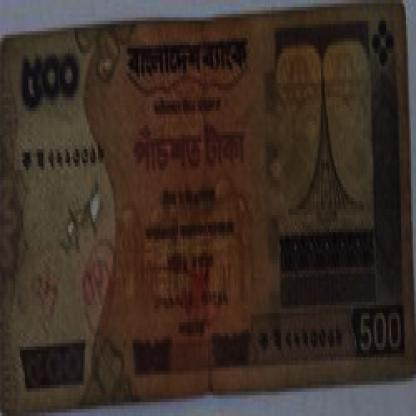500 taka: (121, 111, 262, 187), (15, 48, 100, 114)
currency: (3, 14, 411, 385)
